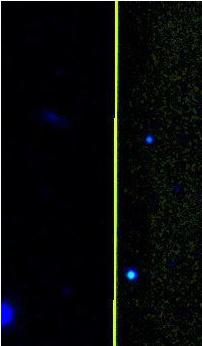star: (0, 299, 26, 329)
